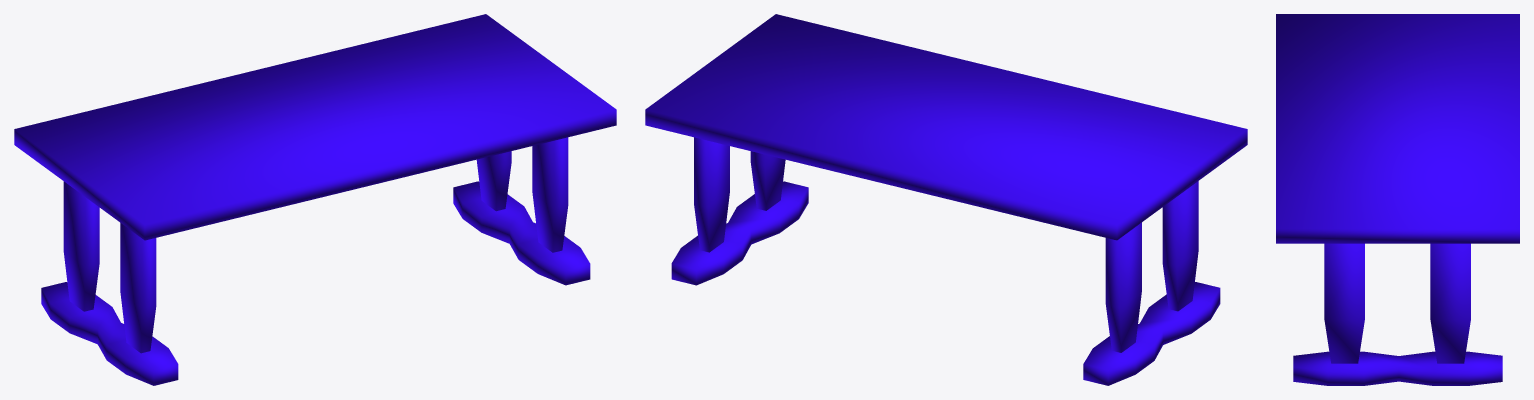
File: office_pack_table_large_2_meshCollider.fbx
The picture shows the model from 3 angles, left to right: view 1: azimuth 30°, elevation 25°; view 2: azimuth 150°, elevation 25°; view 3: azimuth 270°, elevation 25°; orthographic projection. The views are drawn at different scales.
Parts seen in each view (by area): view 1: office_pack_table_large_2_meshCollider; view 2: office_pack_table_large_2_meshCollider; view 3: office_pack_table_large_2_meshCollider.
Boxes of the visible parts, x1,y1,x2,y2 form: office_pack_table_large_2_meshCollider: [14, 14, 616, 385]; office_pack_table_large_2_meshCollider: [645, 14, 1247, 385]; office_pack_table_large_2_meshCollider: [1276, 14, 1519, 385].
Size of the model in its own units: 125 by 43.75 by 60.07.
